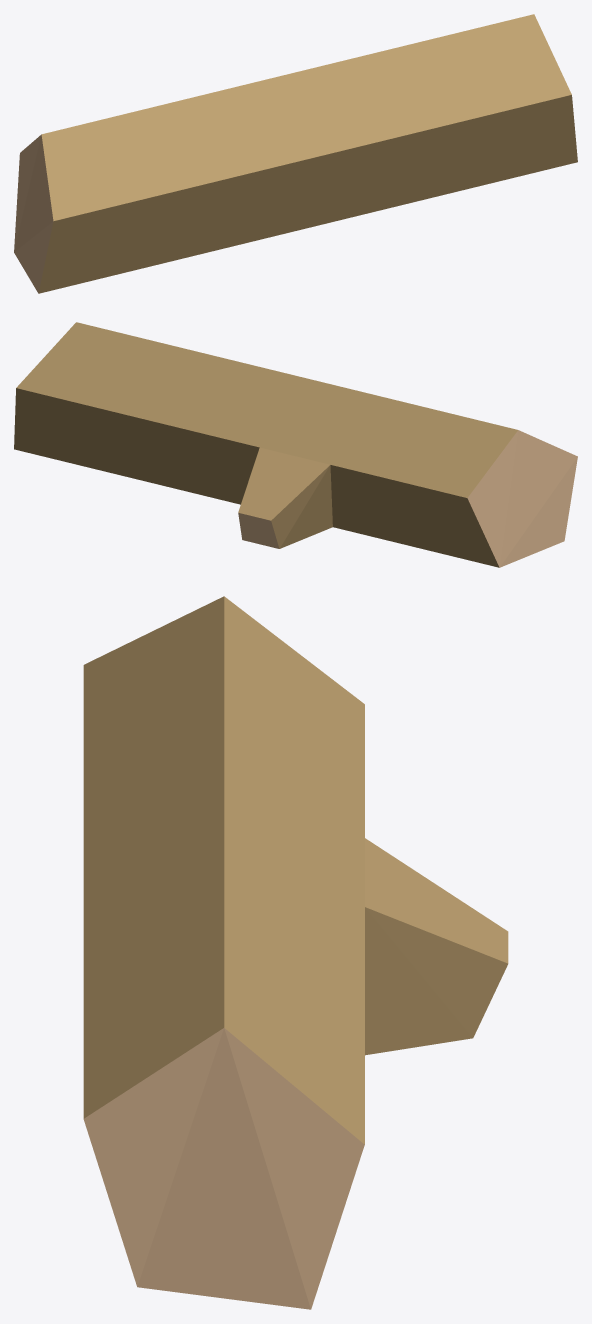
Rendered from Acacia_Firewood_02.fbx.
The picture shows the model from 3 angles, top to bottom: view 1: azimuth 30°, elevation 25°; view 2: azimuth 150°, elevation 25°; view 3: azimuth 270°, elevation 25°; orthographic projection. The views are drawn at different scales.
Parts seen in each view (by area): view 1: Acacia_Firewood_02; view 2: Acacia_Firewood_02; view 3: Acacia_Firewood_02.
Part boxes in pixels (x1=…): Acacia_Firewood_02: x1=14, y1=14, x2=577, y2=293; Acacia_Firewood_02: x1=14, y1=322, x2=577, y2=567; Acacia_Firewood_02: x1=83, y1=596, x2=508, y2=1309.
Bounding box in the file's own units: 54.97 × 12.56 × 19.95.
